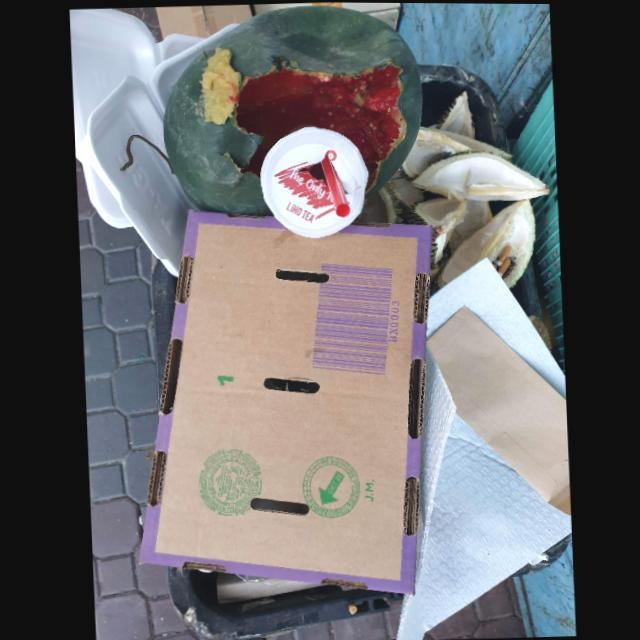biowaste: (162, 5, 422, 216), (410, 151, 549, 201), (401, 126, 513, 177), (400, 197, 466, 263), (435, 90, 474, 137)
paper: (138, 210, 433, 595), (427, 305, 570, 514)
plastic: (260, 126, 368, 238)
styrofoam: (82, 23, 238, 278), (69, 8, 203, 229)
